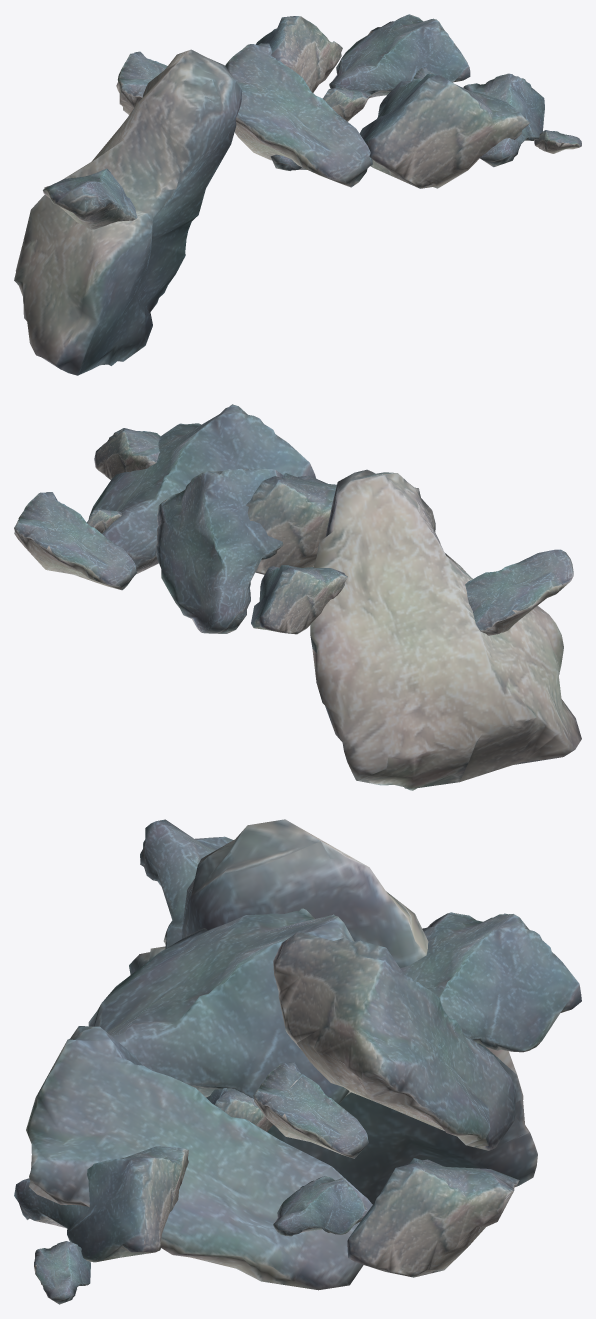
The model's file is ore_034.fbx.
3 renders of one model, top to bottom at view 1: azimuth 30°, elevation 25°; view 2: azimuth 150°, elevation 25°; view 3: azimuth 270°, elevation 25°, orthographic. The views are drawn at different scales.
Visible parts, largest first — view 1: Combined_Mesh; view 2: Combined_Mesh; view 3: Combined_Mesh.
Part boxes in pixels (x1=…): Combined_Mesh: x1=14, y1=14, x2=581, y2=375; Combined_Mesh: x1=14, y1=404, x2=581, y2=790; Combined_Mesh: x1=14, y1=819, x2=581, y2=1304.
Size of the model in its own units: 1.88 by 1.01 by 1.08.
Materials: 1 (1 with a texture image).
